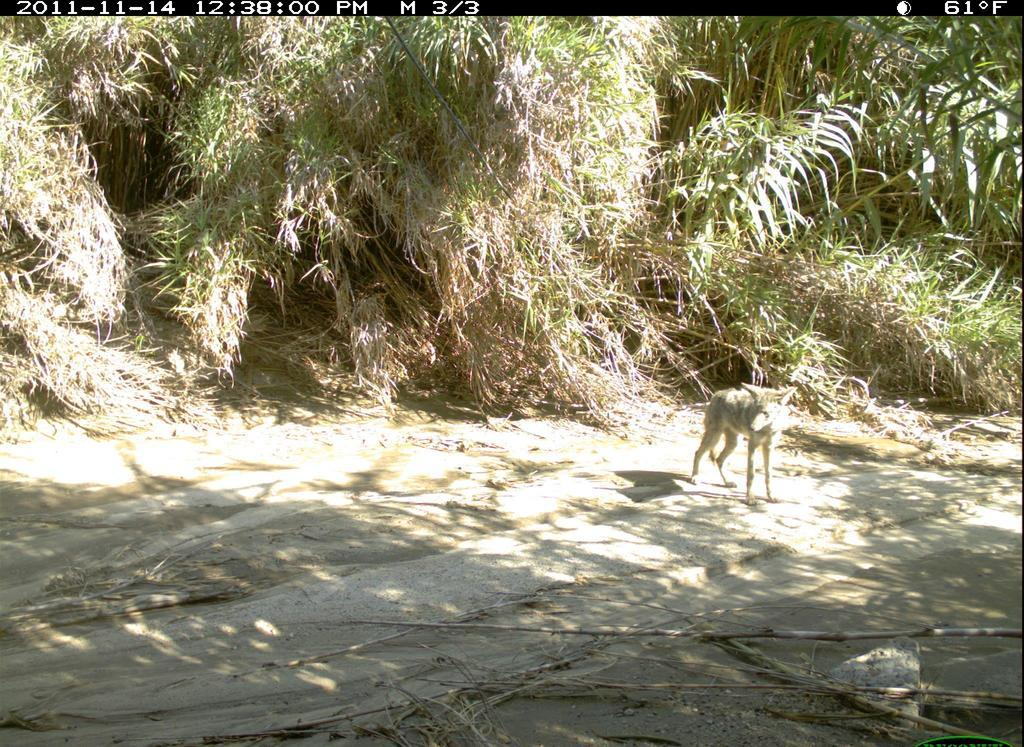coyote: (679, 365, 808, 514)
